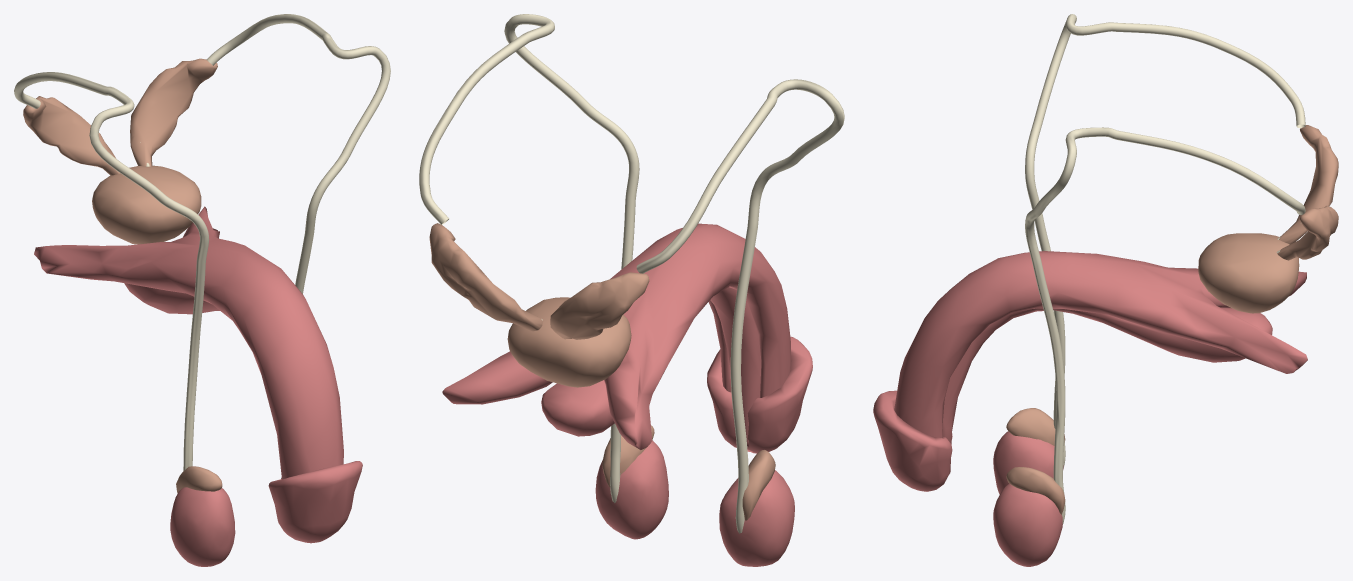
File: adult_male.reproductive.LOD0.glb
3 views of the same model, side by side, from view 1: azimuth 30°, elevation 25°; view 2: azimuth 150°, elevation 25°; view 3: azimuth 270°, elevation 25° (orthographic). The views are drawn at different scales.
Visible parts, largest first — view 1: ADULT.MALE.REPRODUCTIVE.CORPUS_CAVERNOSUM_OF_PENIS, ADULT.MALE.REPRODUCTIVE.PROSTATE, ADULT.MALE.REPRODUCTIVE.DUCTUS_DEFERENS.R, ADULT.MALE.REPRODUCTIVE.GLANS_PENIS, ADULT.MALE.REPRODUCTIVE.SEMINAL_GLAND.L, ADULT.MALE.REPRODUCTIVE.DUCTUS_DEFERENS.L, ADULT.MALE.REPRODUCTIVE.TESTIS, ADULT.MALE.REPRODUCTIVE.SEMINAL_GLAND.R, ADULT.MALE.REPRODUCTIVE.CORPUS_SPONGIOSUM_OF_PENIS, ADULT.MALE.REPRODUCTIVE.EPIDIDYMIS.R; view 2: ADULT.MALE.REPRODUCTIVE.CORPUS_CAVERNOSUM_OF_PENIS, ADULT.MALE.REPRODUCTIVE.DUCTUS_DEFERENS.R, ADULT.MALE.REPRODUCTIVE.DUCTUS_DEFERENS.L, ADULT.MALE.REPRODUCTIVE.PROSTATE, ADULT.MALE.REPRODUCTIVE.CORPUS_SPONGIOSUM_OF_PENIS, ADULT.MALE.REPRODUCTIVE.GLANS_PENIS, ADULT.MALE.REPRODUCTIVE.TESTIS, ADULT.MALE.REPRODUCTIVE.TESTIS.L, ADULT.MALE.REPRODUCTIVE.SEMINAL_GLAND.L, ADULT.MALE.REPRODUCTIVE.SEMINAL_GLAND.R, ADULT.MALE.REPRODUCTIVE.EPIDIDYMIS.R, ADULT.MALE.REPRODUCTIVE.EPIDIDYMIS.L; view 3: ADULT.MALE.REPRODUCTIVE.CORPUS_CAVERNOSUM_OF_PENIS, ADULT.MALE.REPRODUCTIVE.PROSTATE, ADULT.MALE.REPRODUCTIVE.DUCTUS_DEFERENS.L, ADULT.MALE.REPRODUCTIVE.DUCTUS_DEFERENS.R, ADULT.MALE.REPRODUCTIVE.CORPUS_SPONGIOSUM_OF_PENIS, ADULT.MALE.REPRODUCTIVE.GLANS_PENIS, ADULT.MALE.REPRODUCTIVE.TESTIS.L, ADULT.MALE.REPRODUCTIVE.SEMINAL_GLAND.R, ADULT.MALE.REPRODUCTIVE.TESTIS, ADULT.MALE.REPRODUCTIVE.SEMINAL_GLAND.L, ADULT.MALE.REPRODUCTIVE.EPIDIDYMIS.L, ADULT.MALE.REPRODUCTIVE.EPIDIDYMIS.R.
Boxes of the visible parts, x1,y1,x2,y2 form: ADULT.MALE.REPRODUCTIVE.CORPUS_CAVERNOSUM_OF_PENIS: (34,206,343,479); ADULT.MALE.REPRODUCTIVE.PROSTATE: (92,165,201,244); ADULT.MALE.REPRODUCTIVE.DUCTUS_DEFERENS.R: (14,72,209,470); ADULT.MALE.REPRODUCTIVE.GLANS_PENIS: (268,461,362,543); ADULT.MALE.REPRODUCTIVE.SEMINAL_GLAND.L: (130,58,217,166); ADULT.MALE.REPRODUCTIVE.DUCTUS_DEFERENS.L: (206,14,390,293); ADULT.MALE.REPRODUCTIVE.TESTIS: (170,487,235,566); ADULT.MALE.REPRODUCTIVE.SEMINAL_GLAND.R: (23,96,119,175); ADULT.MALE.REPRODUCTIVE.CORPUS_SPONGIOSUM_OF_PENIS: (124,283,219,314); ADULT.MALE.REPRODUCTIVE.EPIDIDYMIS.R: (176,466,222,493); ADULT.MALE.REPRODUCTIVE.CORPUS_CAVERNOSUM_OF_PENIS: (442,223,790,449); ADULT.MALE.REPRODUCTIVE.DUCTUS_DEFERENS.R: (636,79,844,533); ADULT.MALE.REPRODUCTIVE.DUCTUS_DEFERENS.L: (419,14,639,503); ADULT.MALE.REPRODUCTIVE.PROSTATE: (507,297,631,387); ADULT.MALE.REPRODUCTIVE.CORPUS_SPONGIOSUM_OF_PENIS: (541,287,761,447); ADULT.MALE.REPRODUCTIVE.GLANS_PENIS: (707,336,812,453); ADULT.MALE.REPRODUCTIVE.TESTIS: (719,470,794,566); ADULT.MALE.REPRODUCTIVE.TESTIS.L: (595,440,668,539); ADULT.MALE.REPRODUCTIVE.SEMINAL_GLAND.L: (429,223,543,331); ADULT.MALE.REPRODUCTIVE.SEMINAL_GLAND.R: (550,272,649,339); ADULT.MALE.REPRODUCTIVE.EPIDIDYMIS.R: (742,450,775,520); ADULT.MALE.REPRODUCTIVE.EPIDIDYMIS.L: (602,425,654,487); ADULT.MALE.REPRODUCTIVE.CORPUS_CAVERNOSUM_OF_PENIS: (894,251,1307,438); ADULT.MALE.REPRODUCTIVE.PROSTATE: (1198,233,1299,313); ADULT.MALE.REPRODUCTIVE.DUCTUS_DEFERENS.L: (1025,127,1305,524); ADULT.MALE.REPRODUCTIVE.DUCTUS_DEFERENS.R: (1025,14,1305,468); ADULT.MALE.REPRODUCTIVE.CORPUS_SPONGIOSUM_OF_PENIS: (942,307,1272,474); ADULT.MALE.REPRODUCTIVE.GLANS_PENIS: (873,390,952,491); ADULT.MALE.REPRODUCTIVE.TESTIS.L: (993,483,1062,566); ADULT.MALE.REPRODUCTIVE.SEMINAL_GLAND.R: (1279,125,1338,244); ADULT.MALE.REPRODUCTIVE.TESTIS: (993,431,1063,494); ADULT.MALE.REPRODUCTIVE.SEMINAL_GLAND.L: (1277,206,1338,260); ADULT.MALE.REPRODUCTIVE.EPIDIDYMIS.L: (1006,467,1065,514); ADULT.MALE.REPRODUCTIVE.EPIDIDYMIS.R: (1006,408,1065,445).
Bounding box in the file's own units: 0.1123 × 0.1655 × 0.151.
